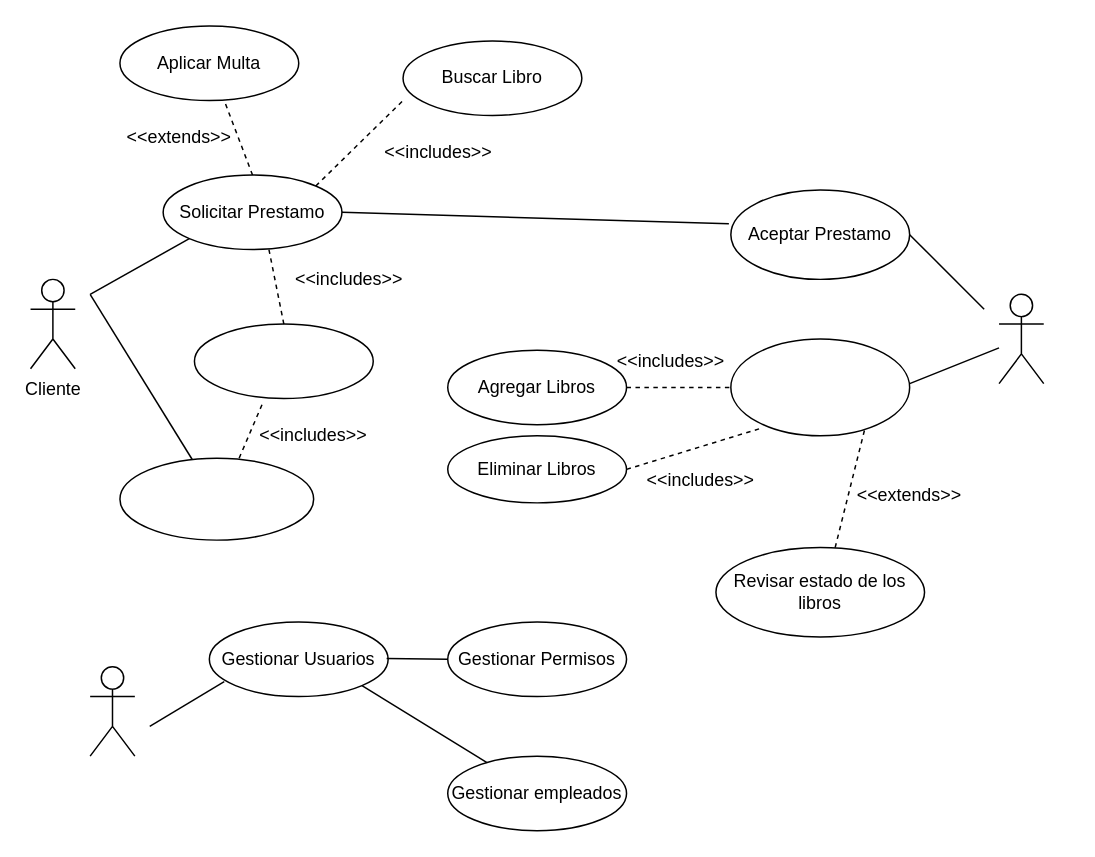
This 1095x857 diagram has some shape labels left out. The shapes that lost their labels are listed below. From the top down, each one's centre as x and y in pixels, then its label:
(1021,338): Bibliotecario
(283,361): Registrarse
(819,386): Gestionar Inventario Libros
(216,498): Comprar Libro Online
(112,710): Administrador
